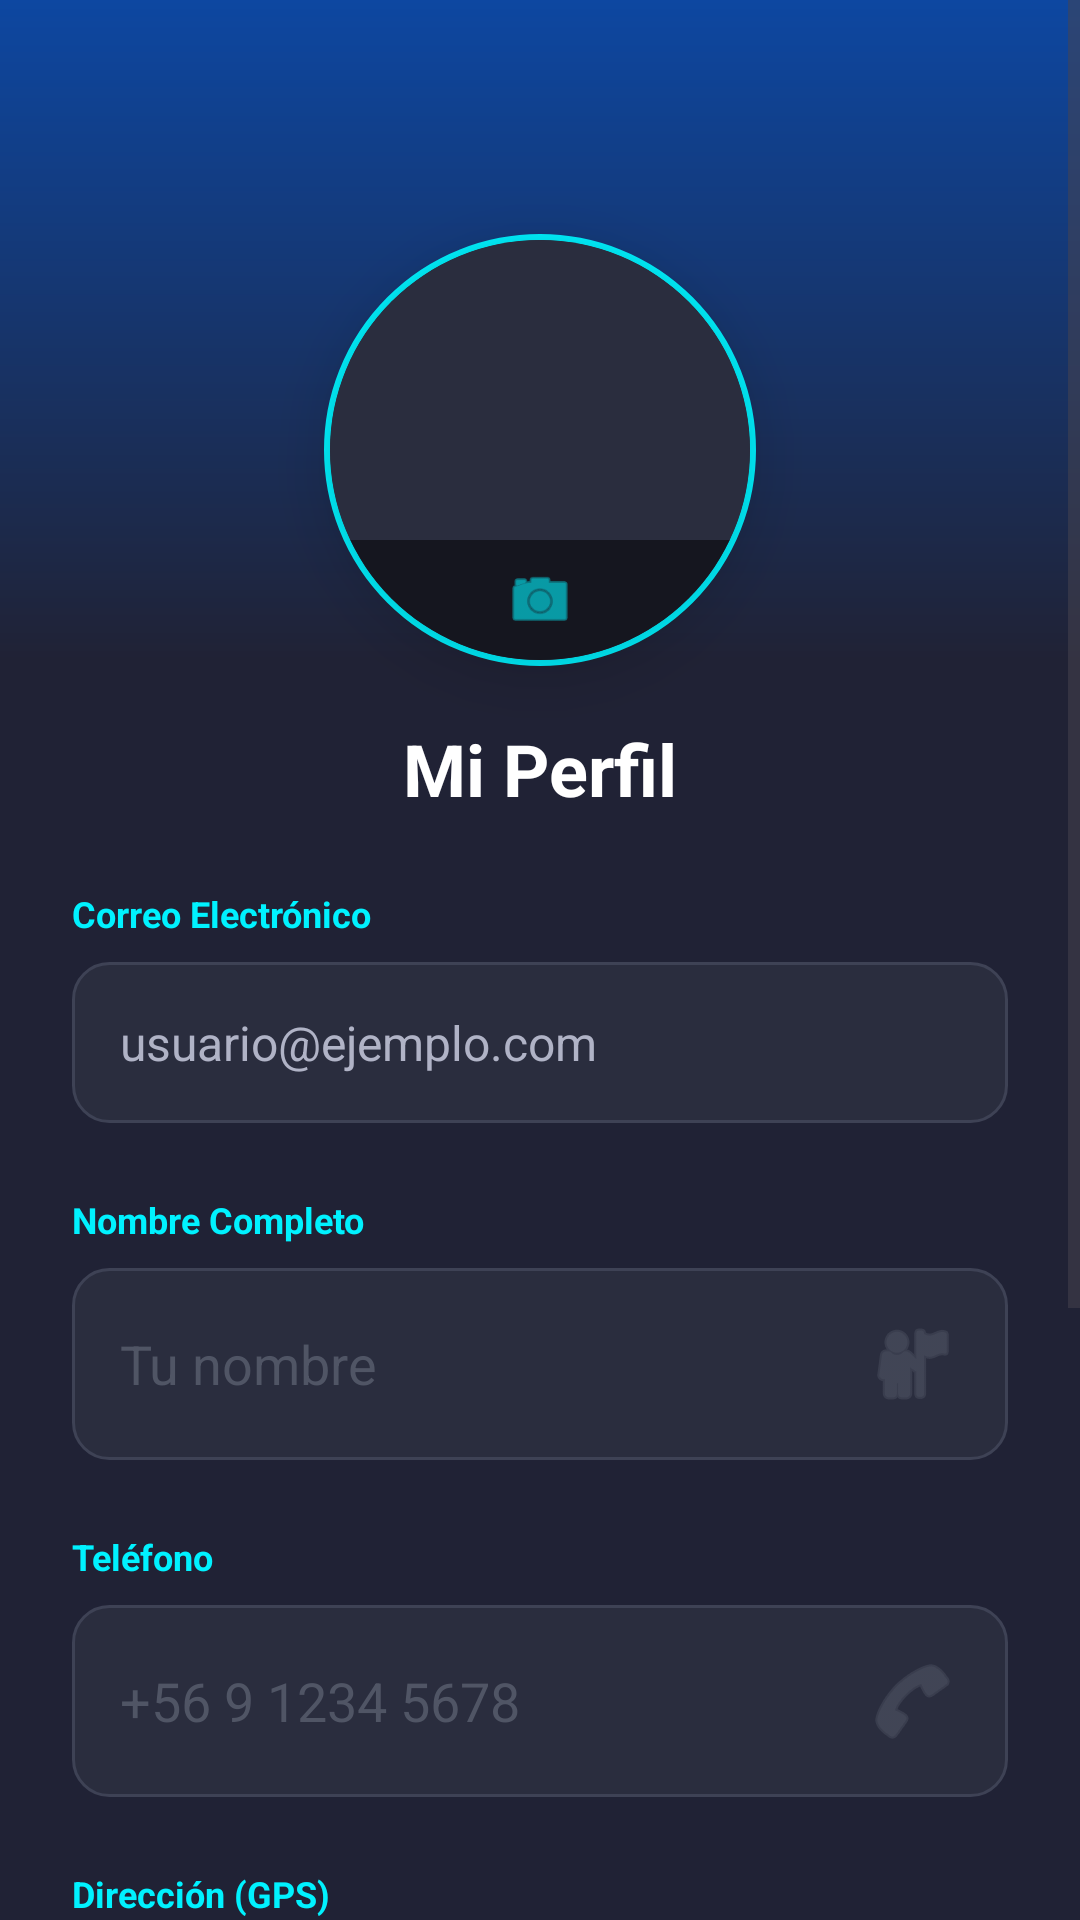

Screen size 1080w x 1920h. Icon name, then its box in pixels as (x1, y1, x2, y2):
camera: (512, 577, 568, 621)
